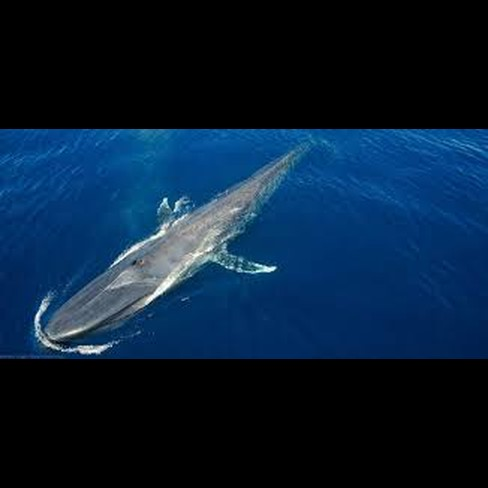bluewhale: (40, 132, 322, 349)
